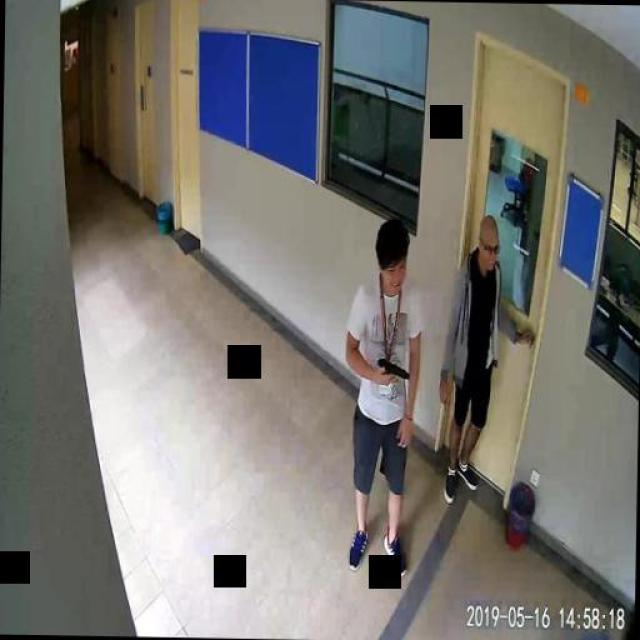gun: (378, 355, 408, 385)
